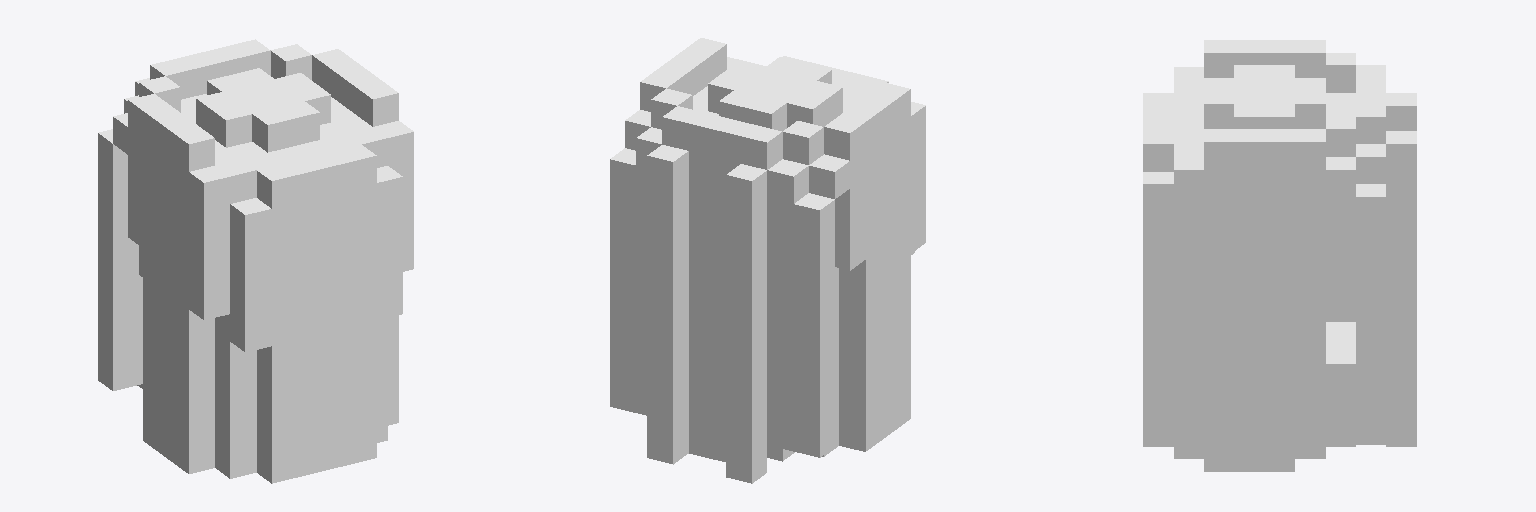
Rendered from char-38-chest_hvy_1_ja.obj.
The picture shows the model from 3 angles: view 1: azimuth 30°, elevation 25°; view 2: azimuth 150°, elevation 25°; view 3: azimuth 270°, elevation 25°; orthographic projection.
Visible parts, largest first — view 1: chest_hvy_1_ja; view 2: chest_hvy_1_ja; view 3: chest_hvy_1_ja.
Boxes of the visible parts, <box> form: chest_hvy_1_ja: <box>98,39,413,483</box>; chest_hvy_1_ja: <box>610,38,925,483</box>; chest_hvy_1_ja: <box>1143,40,1416,471</box>.
Size of the model in its own units: 0.8 by 1.2 by 0.9.